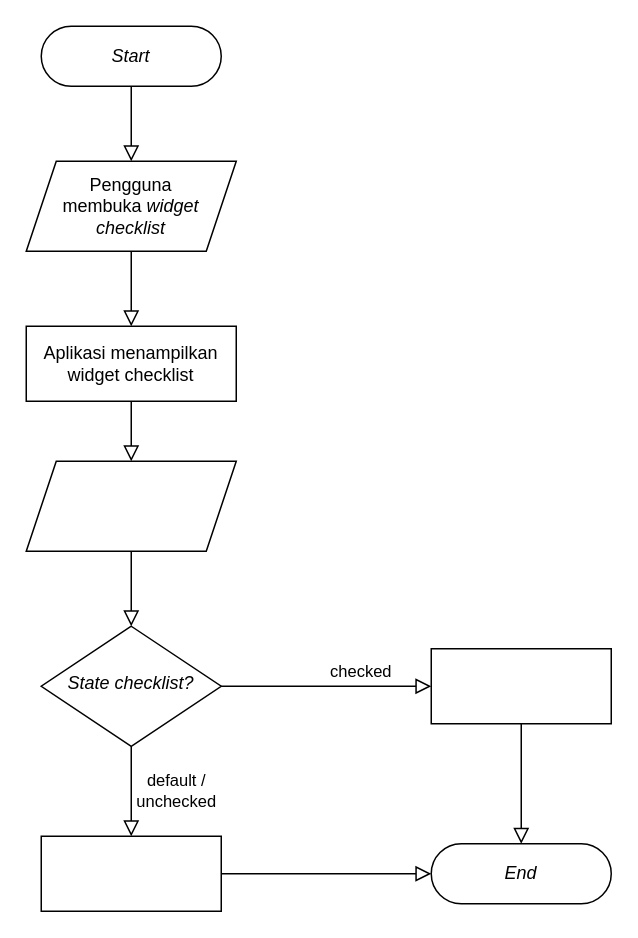
This 638x938 diagram has some shape labels left out. Here are the shapes that lost their labels. From the top down, the centre of each, then its label:
At (x=130, y=505): "Pengguna klik pada teks atau checkbox".
At (x=520, y=685): "Checklist berubah menjadi state unchecked / default".
At (x=130, y=873): "Checklist berubah menjadi state checked".
